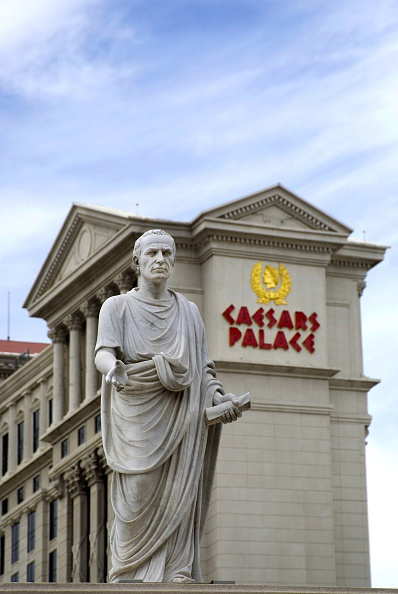em pe: (94, 231, 226, 560)
